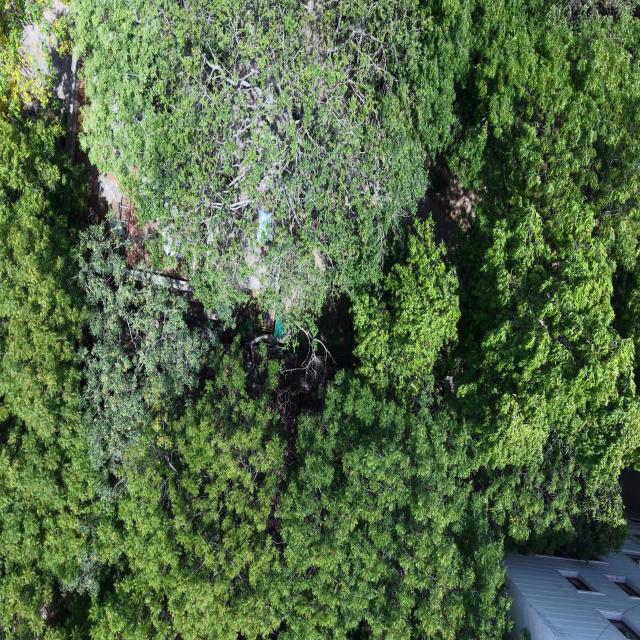ROOFTOP_BUILDING: (506, 521, 639, 639)
VEGETATION_TREE: (0, 0, 639, 639), (74, 0, 470, 324), (92, 339, 507, 638), (453, 3, 639, 539), (276, 373, 508, 638), (0, 117, 97, 637), (76, 225, 213, 465), (351, 221, 459, 402), (0, 0, 72, 120), (0, 0, 49, 119)
